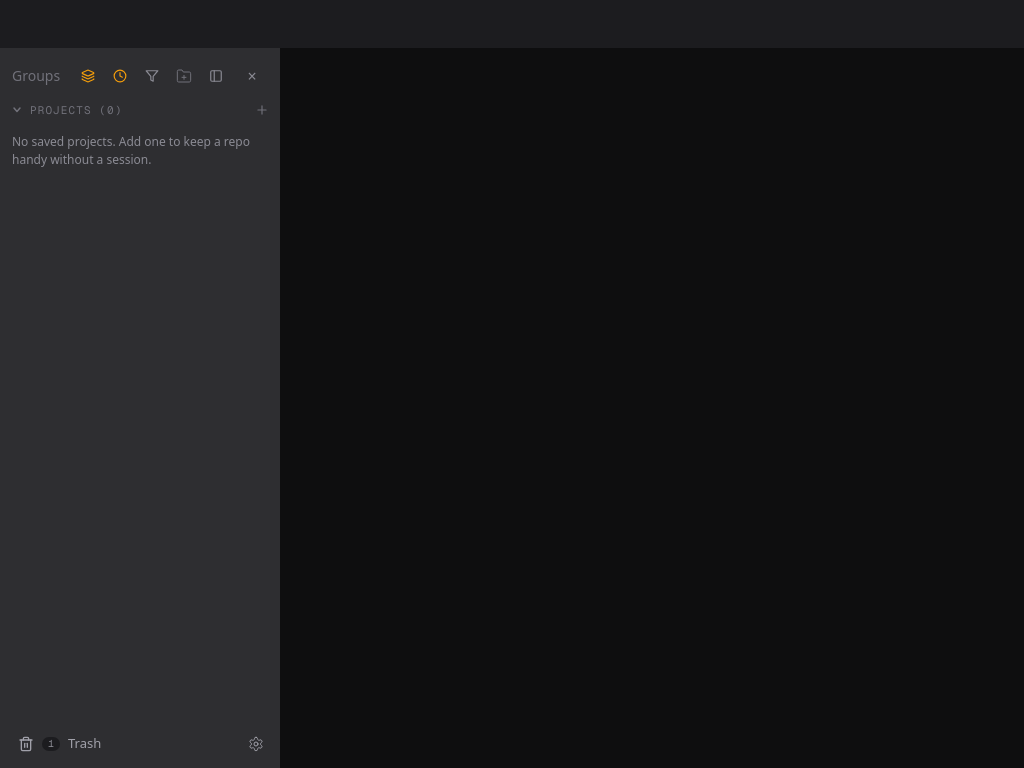
Test: WorkspaceSidebar Trash control (#2489, #2512) › closes the Trash popover on Escape
Click the button with test id "sidebar-trash-toggle": [122, 744] box [8,728,236,760]
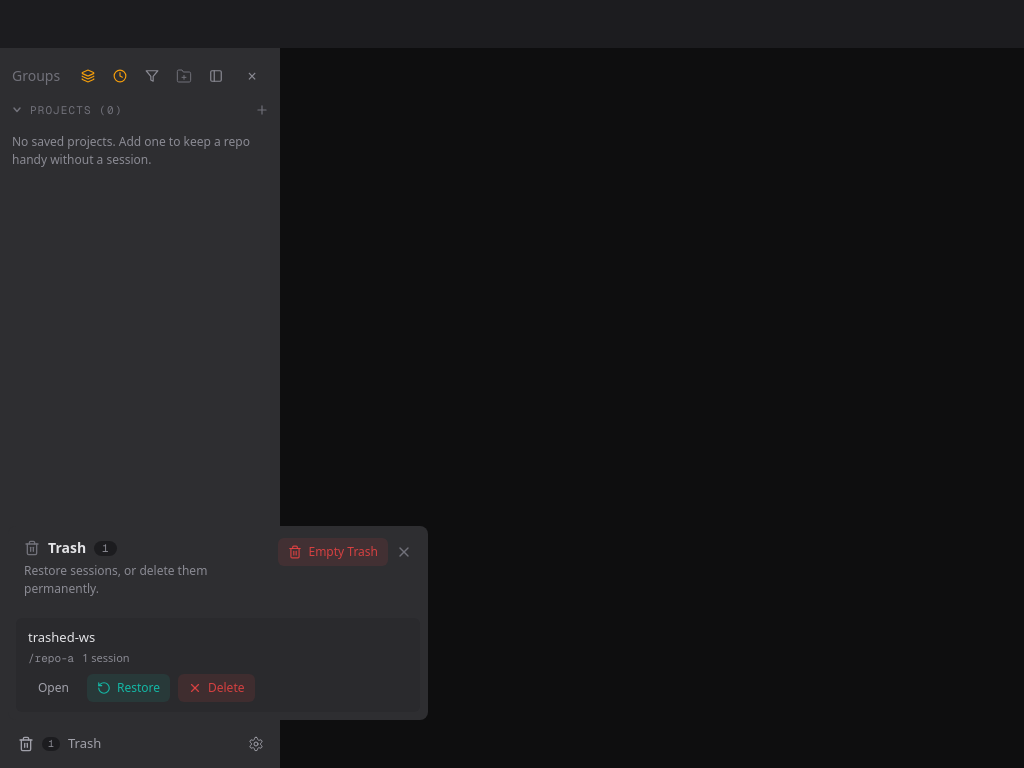
Expected: the element with test id "sidebar-trash-menu" is shown, [8,526,428,720]
Press Escape
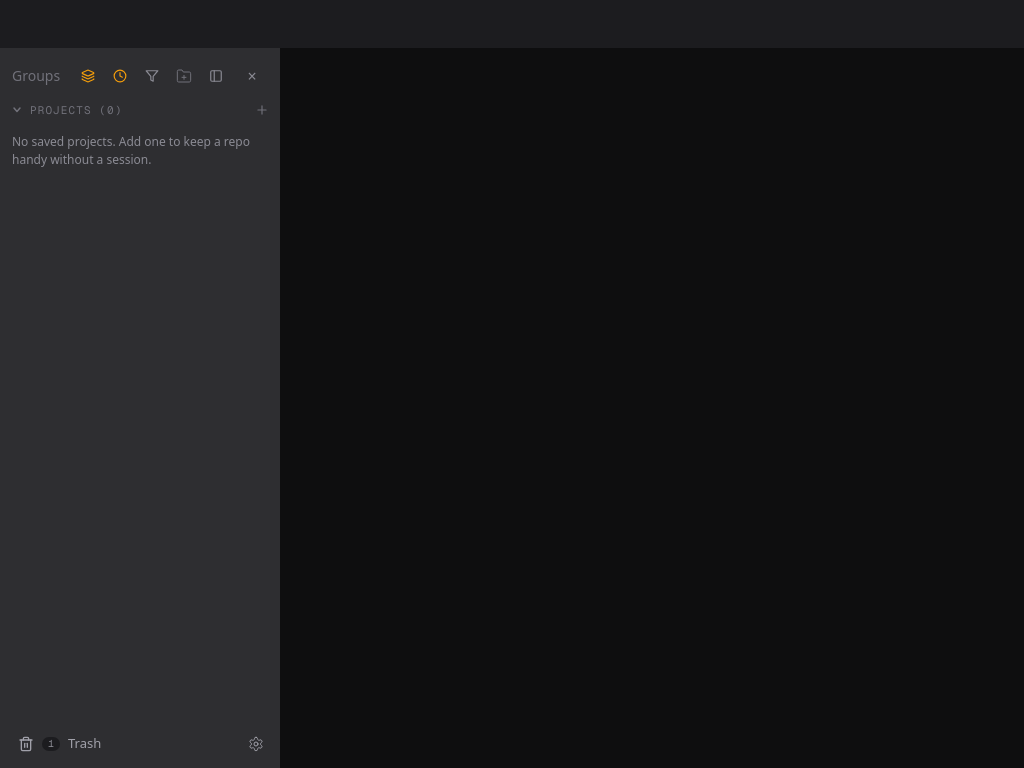
Expected: the element with test id "sidebar-trash-menu" is gone
